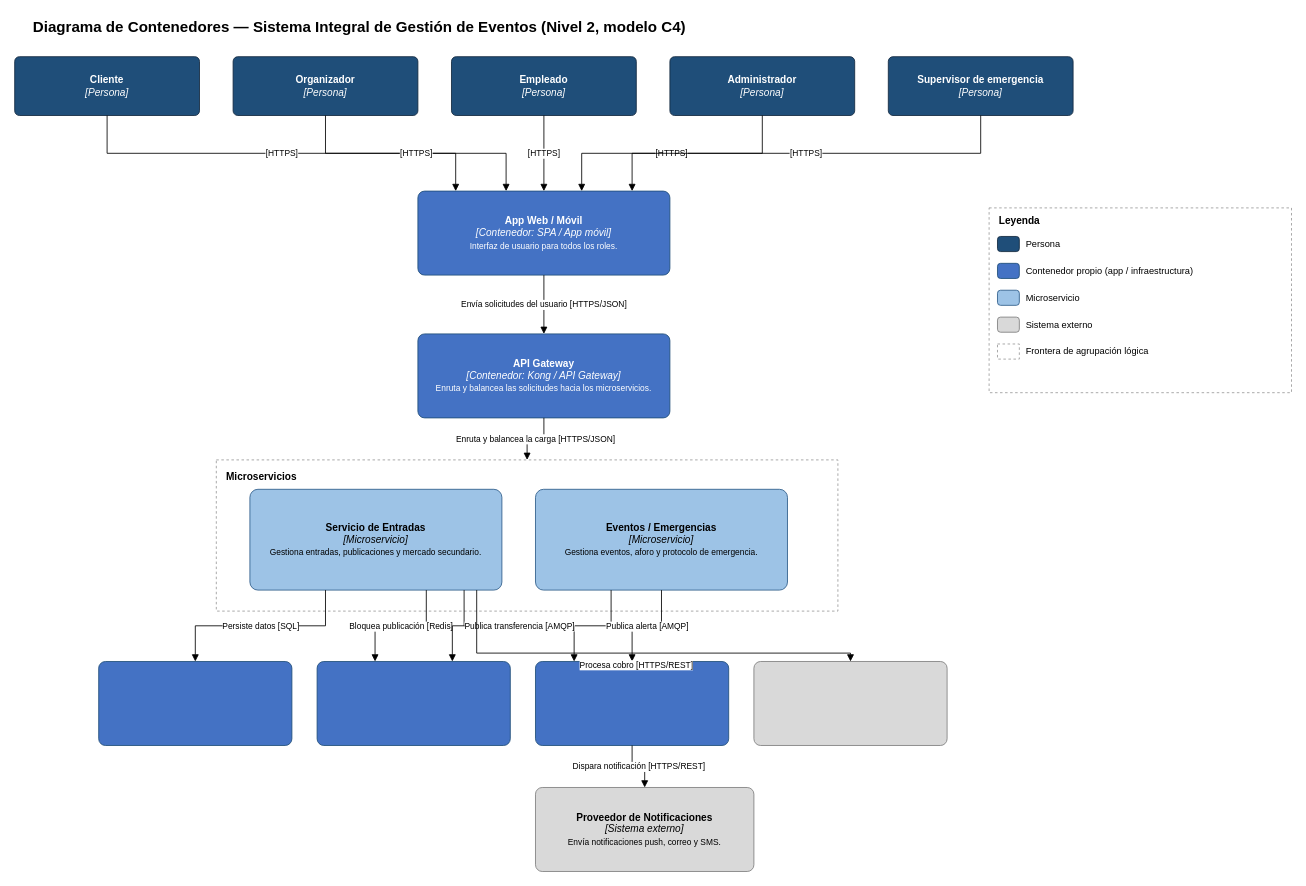
The diagram is 1306 pixels wide and 886 high, and some of its shapes have lost their labels. Here are the shapes that lost their labels. From the top down, the centre of each, then its label:
point (195, 703): Bases de Datos [Infraestructura: SQL] Persiste los datos de cada dominio.
point (413, 703): Redis [Infraestructura: Redis] Caché y bloqueos temporales de concurrencia.
point (632, 703): Cola de Mensajes [Infraestructura: AMQP] Mensajería asíncrona entre servicios.
point (850, 703): Pasarela de Pagos [Sistema externo] Procesa cobros, reventas y reembolsos.
